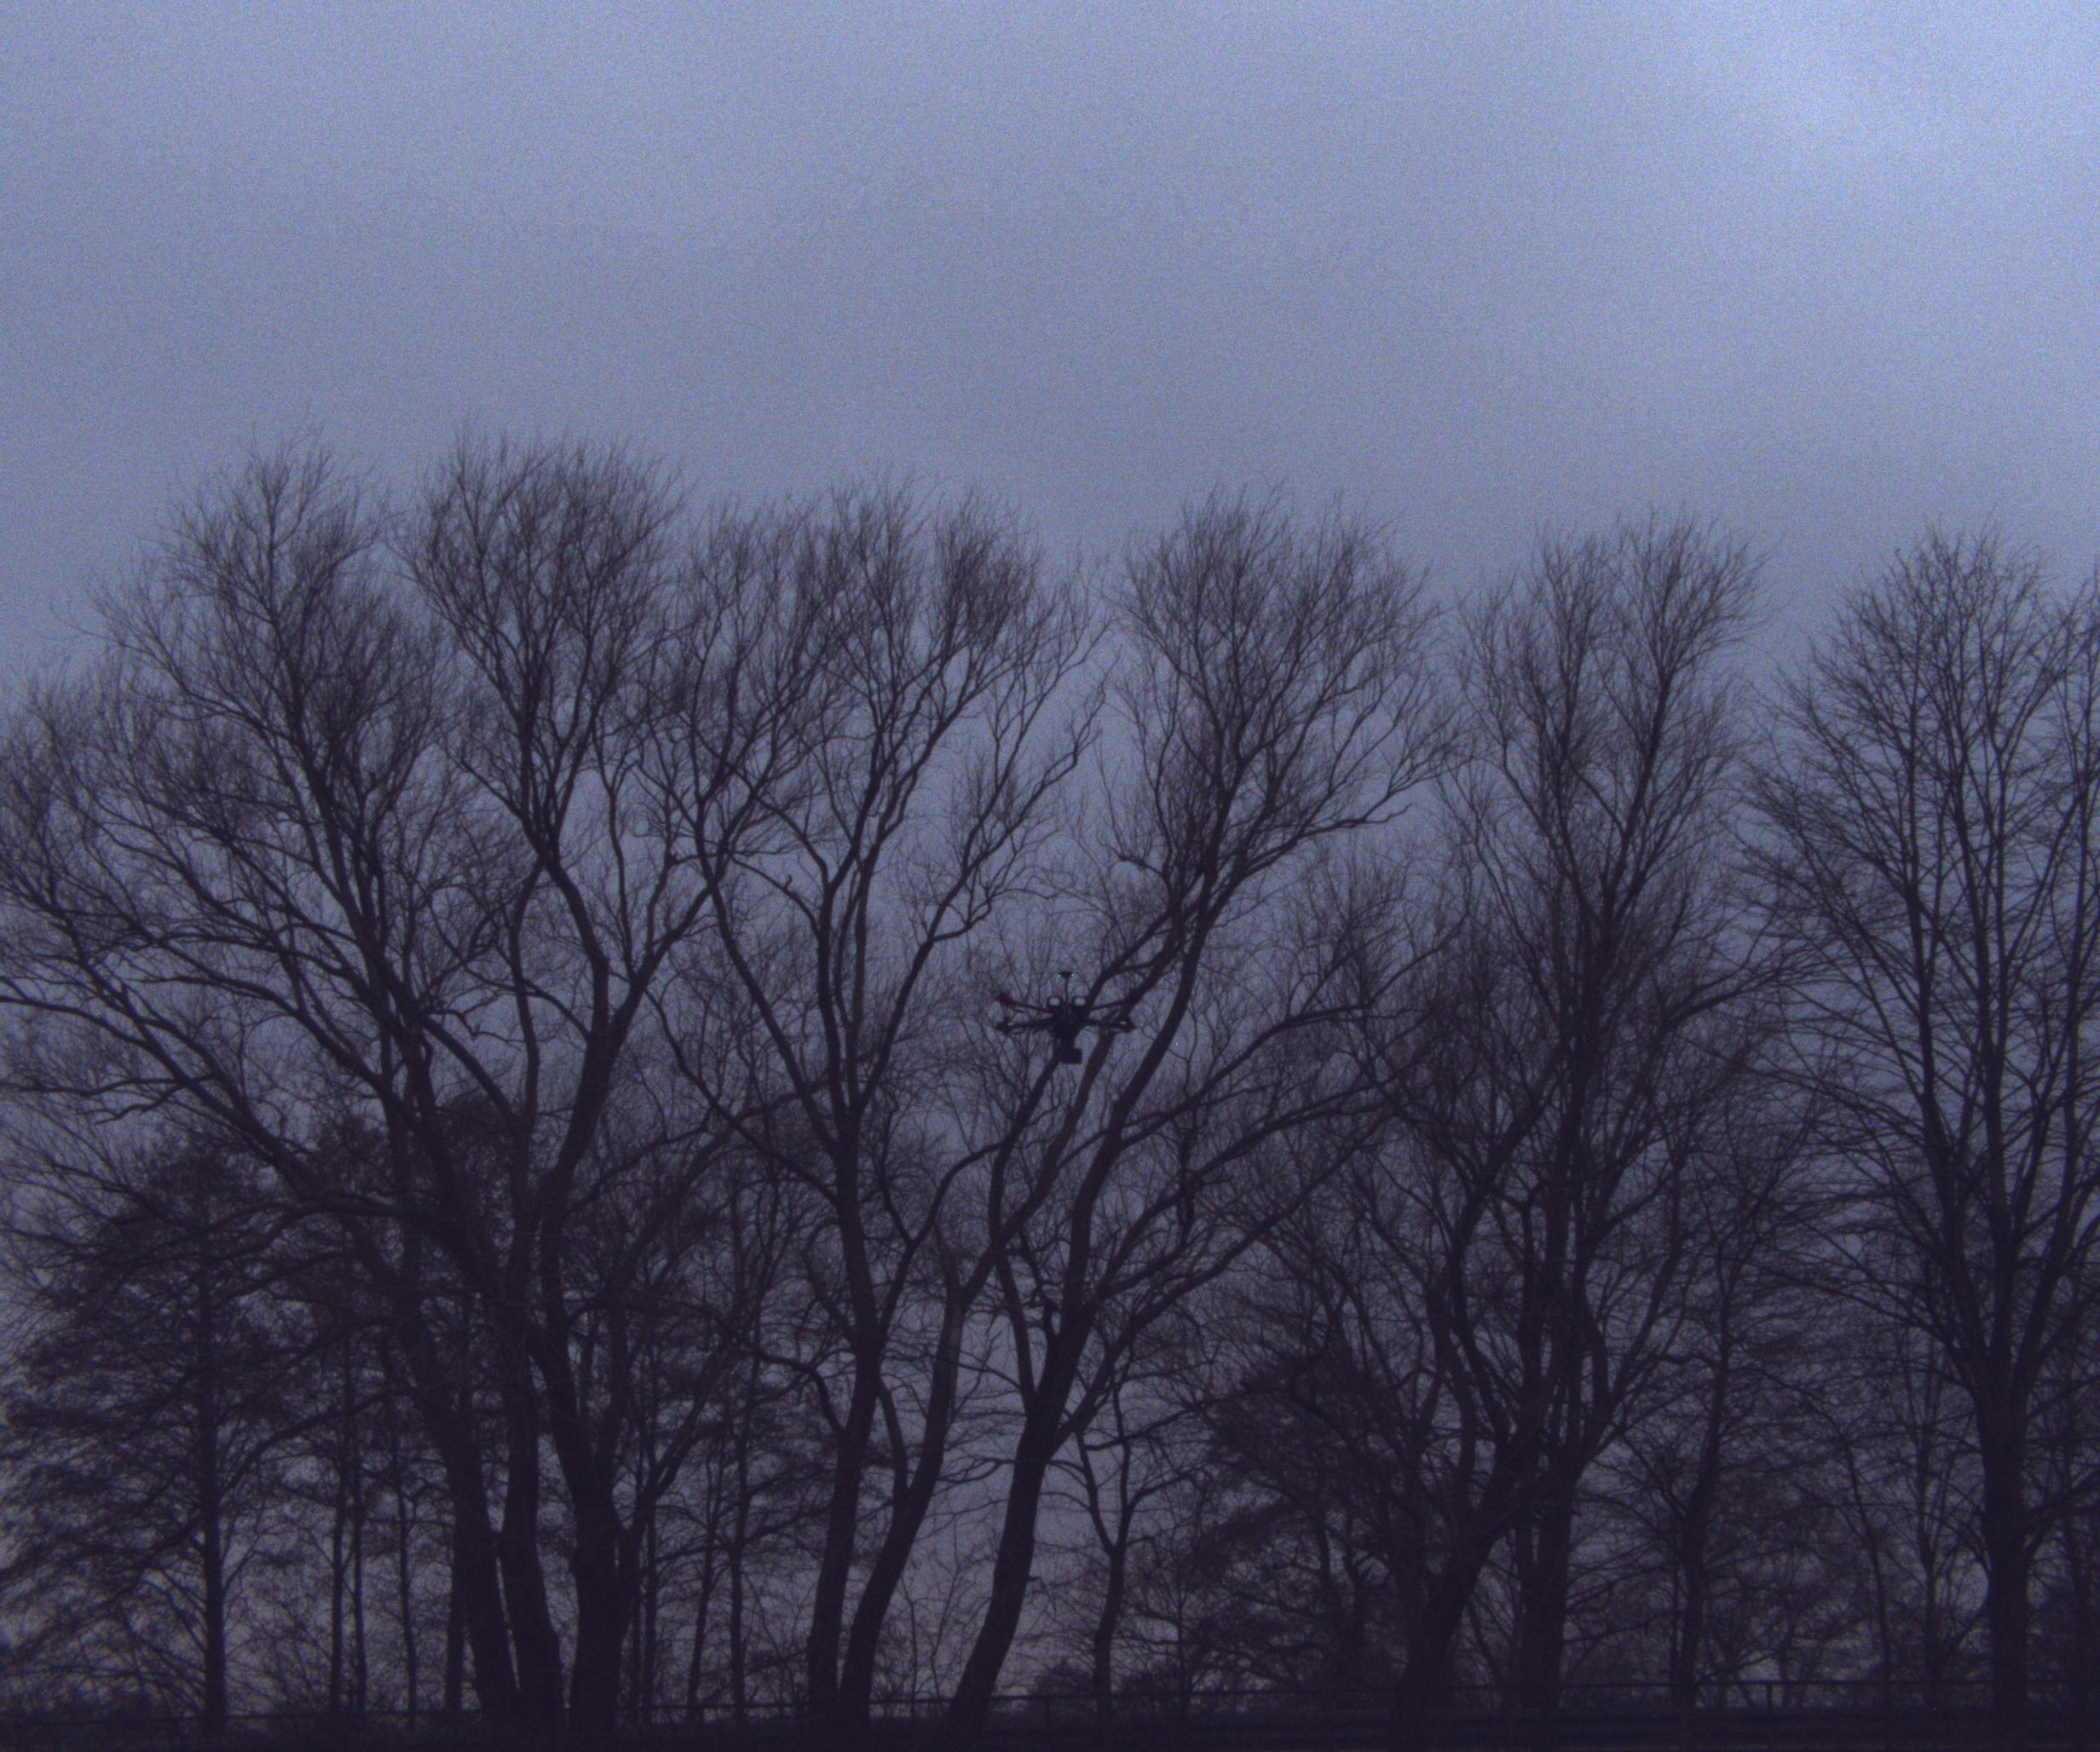Drohne: (930, 964, 1191, 1144)
